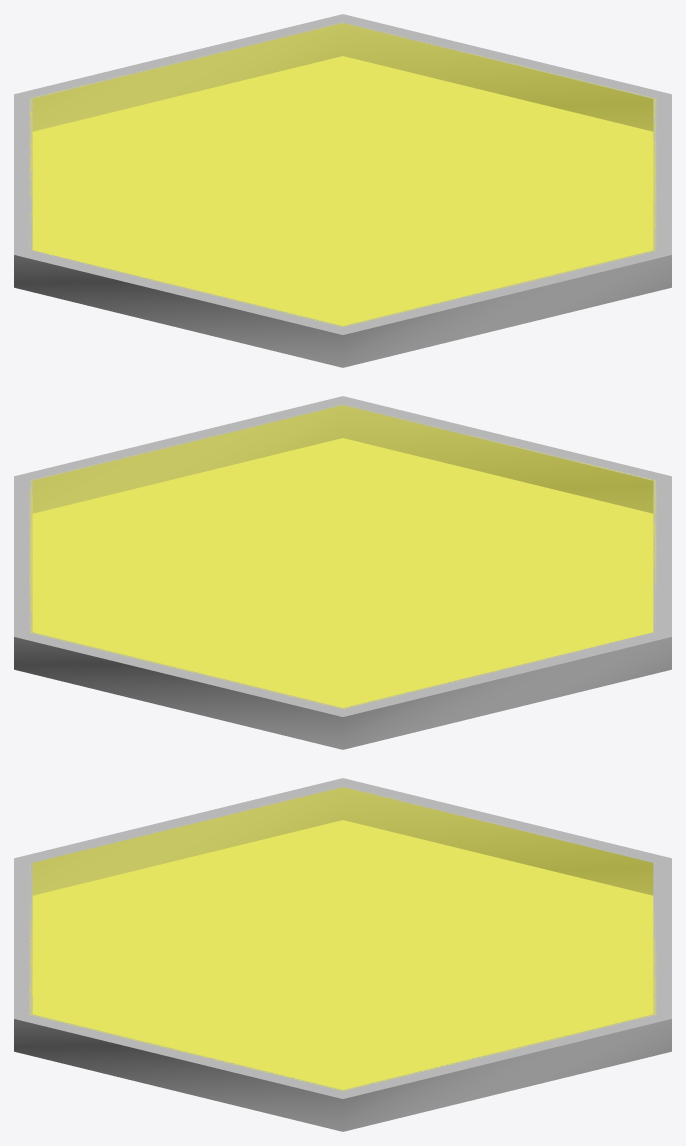
The model's file is HexUnit(light yellow).fbx.
The picture shows the model from 3 angles, top to bottom: view 1: azimuth 30°, elevation 25°; view 2: azimuth 150°, elevation 25°; view 3: azimuth 270°, elevation 25°; orthographic projection.
Visible parts, largest first — view 1: 封顶_2, 封顶_1, 管道; view 2: 封顶_2, 封顶_1, 管道; view 3: 封顶_2, 封顶_1, 管道.
Boxes of the visible parts, bbox=[...] form: 封顶_2: bbox=[29, 22, 656, 326]; 封顶_1: bbox=[33, 56, 652, 325]; 管道: bbox=[14, 14, 671, 367]; 封顶_2: bbox=[29, 404, 656, 708]; 封顶_1: bbox=[33, 438, 652, 707]; 管道: bbox=[14, 396, 671, 749]; 封顶_2: bbox=[29, 786, 656, 1090]; 封顶_1: bbox=[33, 820, 652, 1089]; 管道: bbox=[14, 778, 671, 1131].
Size of the model in its own units: 2.1 by 0.1 by 1.82.
